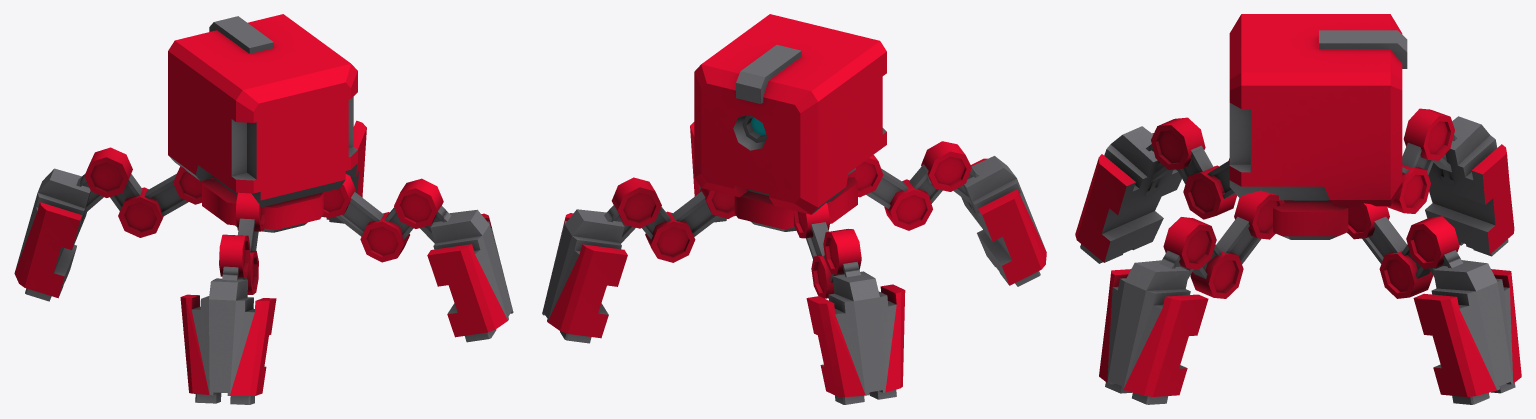
Rendered from Monster1_Attack26.obj.
3 views of the same model, side by side, from view 1: azimuth 30°, elevation 25°; view 2: azimuth 150°, elevation 25°; view 3: azimuth 270°, elevation 25° (orthographic). The views are drawn at different scales.
Parts seen in each view (by area): view 1: Box006, Object021, Object017, Object025, Object020, Object028, Object027, Object018, Object019, Object026, Object024, Object022 (+2 smaller); view 2: Box006, Object025, Object013, Object021, Object016, Object023, Object024, Object015, Object014, Object028, Object022, Object026 (+1 smaller); view 3: Box006, Object013, Object017, Object021, Object025, Object018, Object023, Object016, Object020, Object024, Object014, Object028 (+4 smaller).
Part boxes in pixels (x1,y1,x2,y2): Box006: (168, 14, 357, 232); Object021: (180, 278, 276, 404); Object017: (427, 209, 513, 342); Object025: (14, 168, 90, 301); Object020: (394, 178, 451, 243); Object028: (76, 147, 132, 213); Object027: (110, 174, 163, 237); Object018: (322, 174, 383, 236); Object019: (360, 207, 413, 262); Object026: (144, 166, 214, 216); Object024: (219, 234, 250, 280); Object022: (236, 192, 264, 252); Box006: (694, 14, 886, 231); Object025: (806, 271, 905, 404); Object013: (542, 209, 627, 343); Object021: (961, 156, 1046, 286); Object016: (604, 177, 661, 243); Object023: (884, 164, 942, 230); Object024: (921, 141, 979, 204); Object015: (642, 207, 695, 262); Object014: (672, 188, 735, 236); Object028: (823, 229, 861, 277); Object022: (848, 155, 908, 208); Object026: (794, 203, 830, 258); Box006: (1229, 14, 1407, 239); Object013: (1413, 260, 1521, 404); Object017: (1099, 260, 1208, 404); Object021: (1075, 126, 1181, 263); Object025: (1425, 116, 1514, 256); Object018: (1216, 190, 1284, 264); Object023: (1177, 145, 1236, 219); Object016: (1406, 216, 1462, 276); Object020: (1160, 217, 1216, 279); Object024: (1146, 117, 1205, 181); Object014: (1345, 203, 1406, 263); Object028: (1403, 108, 1457, 172).
Size of the model in its own units: 150 by 108 by 153.
